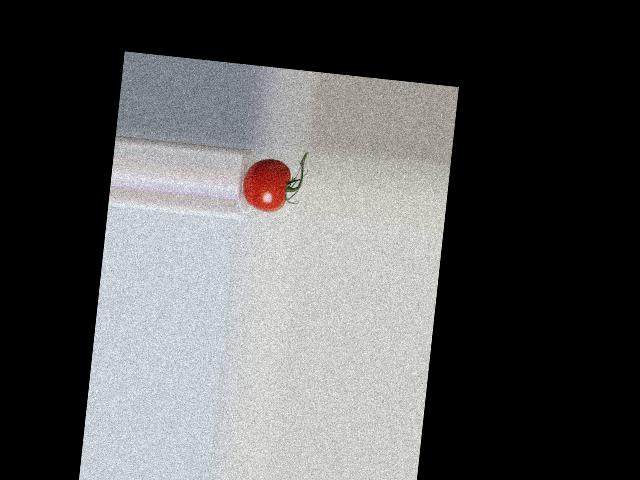tomato: (240, 155, 292, 214)
